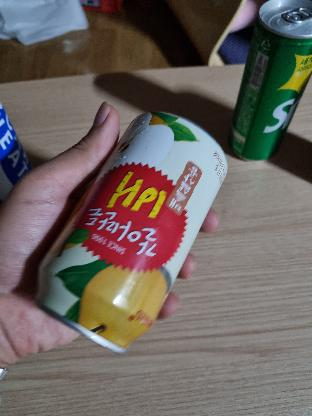Can: (20, 112, 228, 354)
